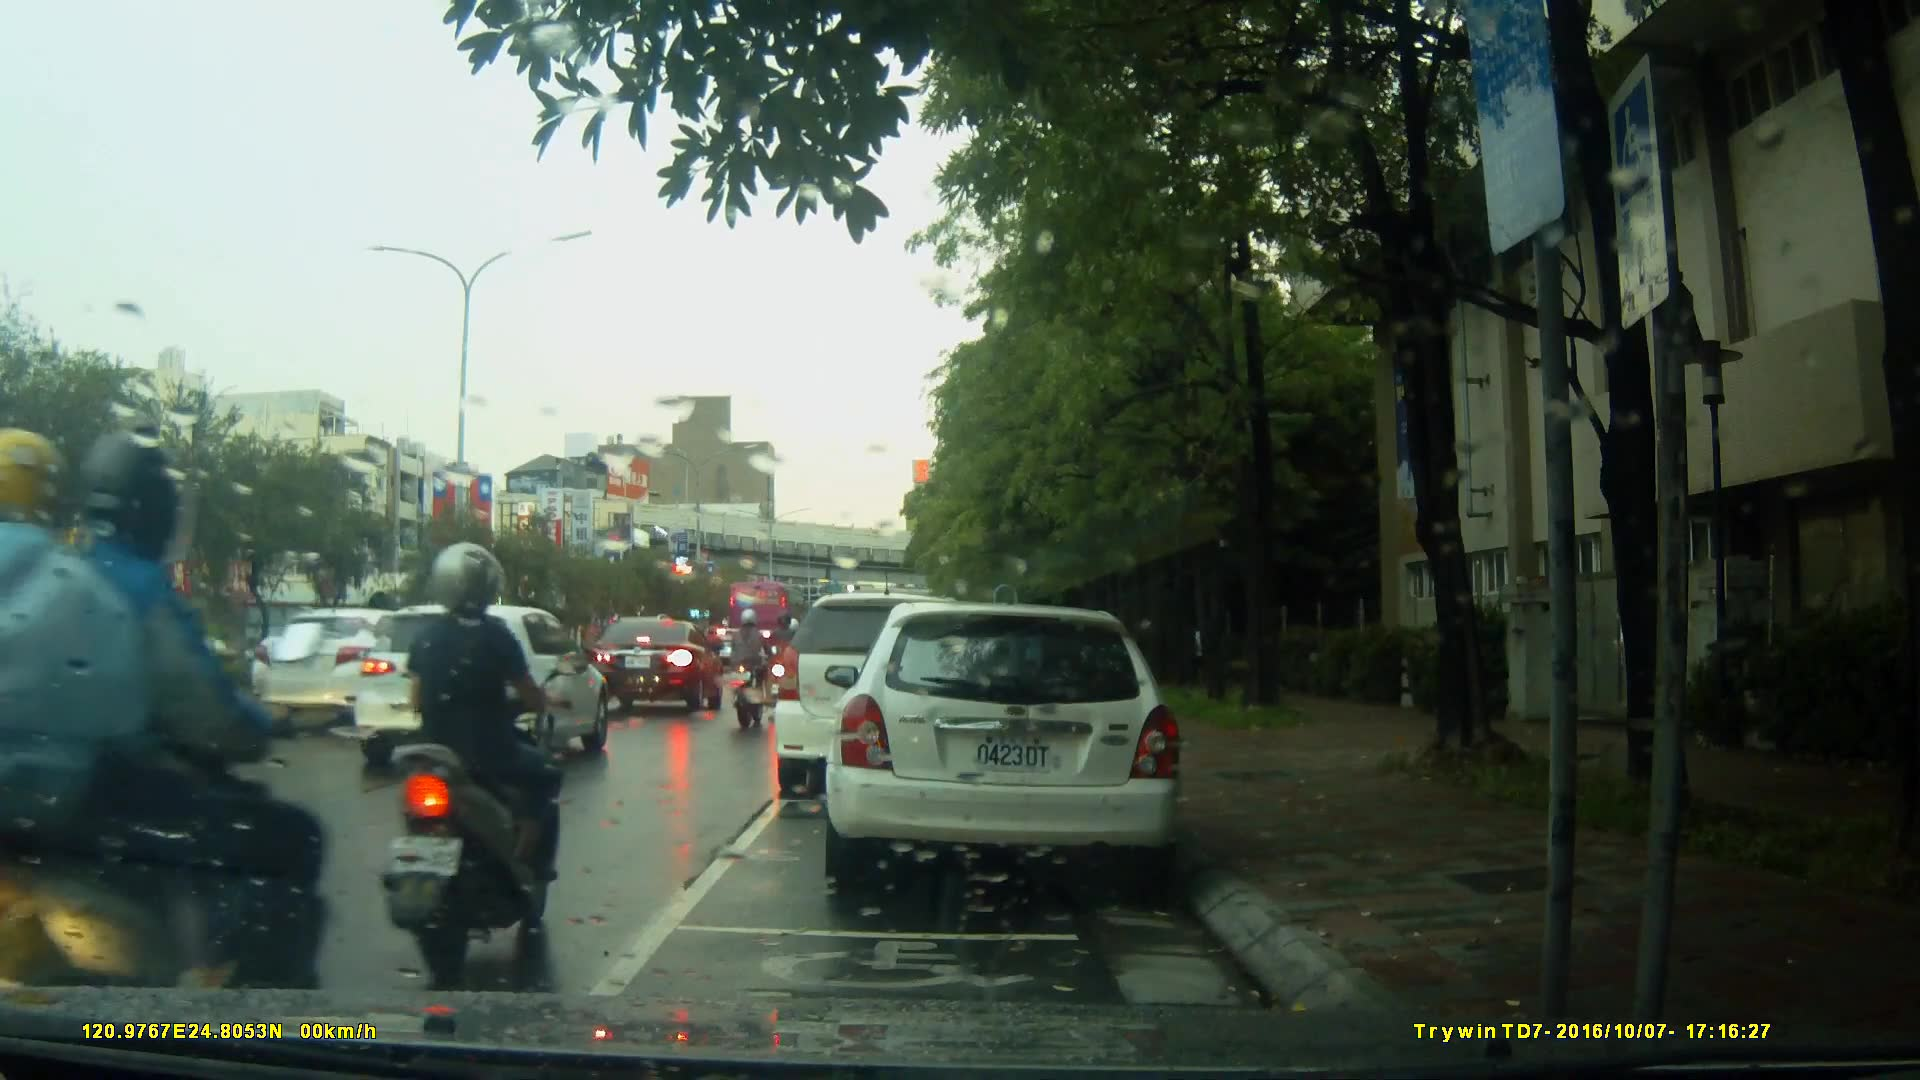rider: (1, 433, 317, 1049), (379, 545, 568, 964), (723, 610, 780, 737)
vehicle: (835, 594, 1194, 898), (776, 590, 1026, 784), (352, 603, 613, 771), (581, 615, 726, 716), (728, 580, 809, 650)
